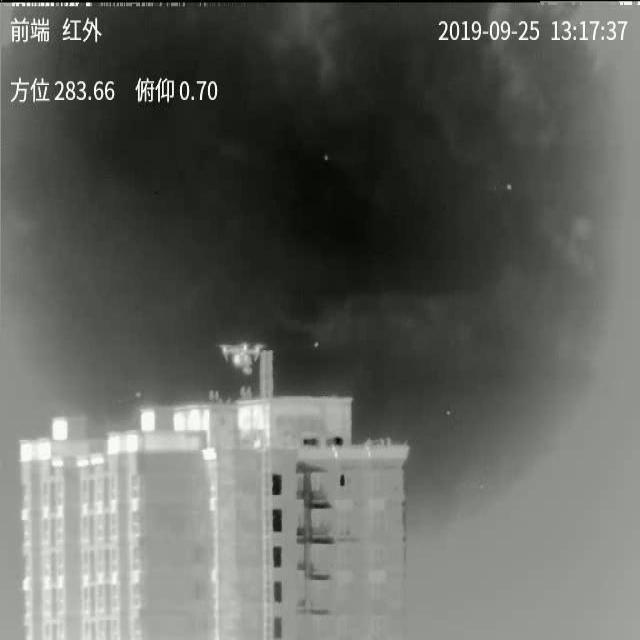drone: (216, 342, 267, 375)
